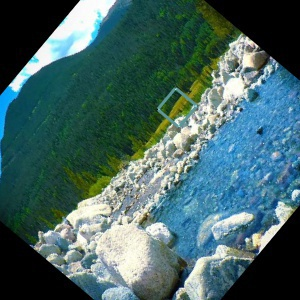square: (155, 85, 198, 129)
